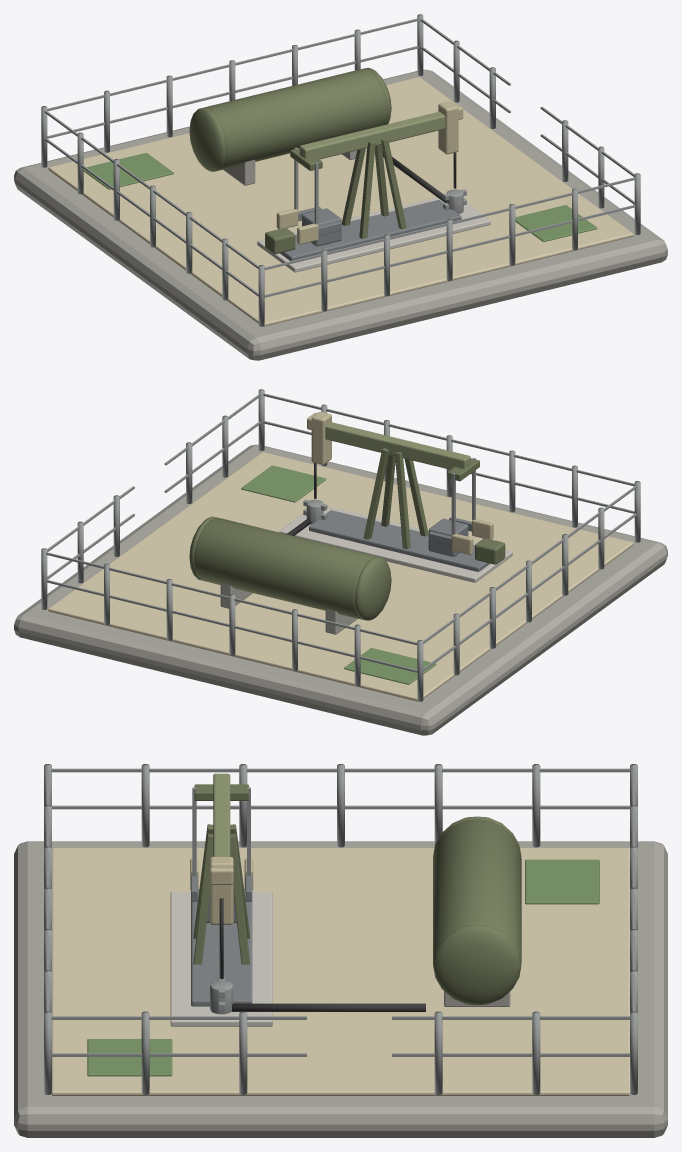
File: oilwell_2.glb
3 views of the same model, one above another, from view 1: azimuth 30°, elevation 25°; view 2: azimuth 150°, elevation 25°; view 3: azimuth 270°, elevation 25° (orthographic). The views are drawn at different scales.
Visible parts, largest first — view 1: Cube.001, Cube, Cylinder.002, Cube.005, Cube.010, Cube.004, Sphere.001, Cube.002, Cube.003, Cube.031, Cube.027, Cube.032 (+11 smaller); view 2: Cube.001, Cube, Cylinder.002, Cube.005, Cube.004, Cube.010, Sphere.001, Cube.003, Cube.002, Cube.032, Cube.026, Cube.031 (+10 smaller); view 3: Cube.001, Cube, Cylinder.002, Cube.004, Sphere.002, Cube.005, Cube.002, Cube.003, Cube.033, Cube.028, Cylinder.003, Cube.010 (+22 smaller).
Part boxes in pixels (x1=…): Cube.001: x1=48, y1=77, x2=633, y2=326; Cube: x1=14, y1=69, x2=667, y2=360; Cylinder.002: x1=203, y1=68, x2=386, y2=170; Cube.005: x1=280, y1=200, x2=461, y2=260; Cube.010: x1=299, y1=111, x2=445, y2=159; Cube.004: x1=257, y1=197, x2=490, y2=272; Sphere.001: x1=189, y1=107, x2=225, y2=171; Cube.002: x1=83, y1=153, x2=173, y2=189; Cube.003: x1=515, y1=205, x2=597, y2=241; Cube.031: x1=47, y1=18, x2=418, y2=111; Cube.027: x1=264, y1=204, x2=635, y2=297; Cube.032: x1=264, y1=177, x2=635, y2=270; Cube.001: x1=48, y1=452, x2=633, y2=701; Cube: x1=14, y1=444, x2=667, y2=735; Cylinder.002: x1=194, y1=517, x2=378, y2=619; Cube.005: x1=309, y1=510, x2=489, y2=571; Cube.004: x1=279, y1=506, x2=512, y2=582; Cube.010: x1=325, y1=422, x2=470, y2=469; Sphere.001: x1=355, y1=556, x2=391, y2=620; Cube.003: x1=241, y1=465, x2=326, y2=502; Cube.002: x1=344, y1=648, x2=436, y2=684; Cube.032: x1=263, y1=393, x2=634, y2=486; Cube.026: x1=46, y1=579, x2=417, y2=672; Cube.031: x1=46, y1=552, x2=417, y2=645; Cube.001: x1=51, y1=848, x2=630, y2=1095; Cube: x1=14, y1=841, x2=667, y2=1137; Cylinder.002: x1=433, y1=819, x2=521, y2=963; Cube.004: x1=170, y1=892, x2=272, y2=1026; Sphere.002: x1=433, y1=924, x2=521, y2=1004; Cube.005: x1=191, y1=889, x2=252, y2=1006; Cube.002: x1=525, y1=859, x2=599, y2=904; Cube.003: x1=87, y1=1039, x2=172, y2=1076; Cube.033: x1=51, y1=768, x2=630, y2=772; Cube.028: x1=52, y1=805, x2=629, y2=809; Cylinder.003: x1=232, y1=1003, x2=425, y2=1011; Cube.010: x1=213, y1=773, x2=230, y2=856.
Bounding box in the file's own units: 1.92 × 0.605 × 1.92.
